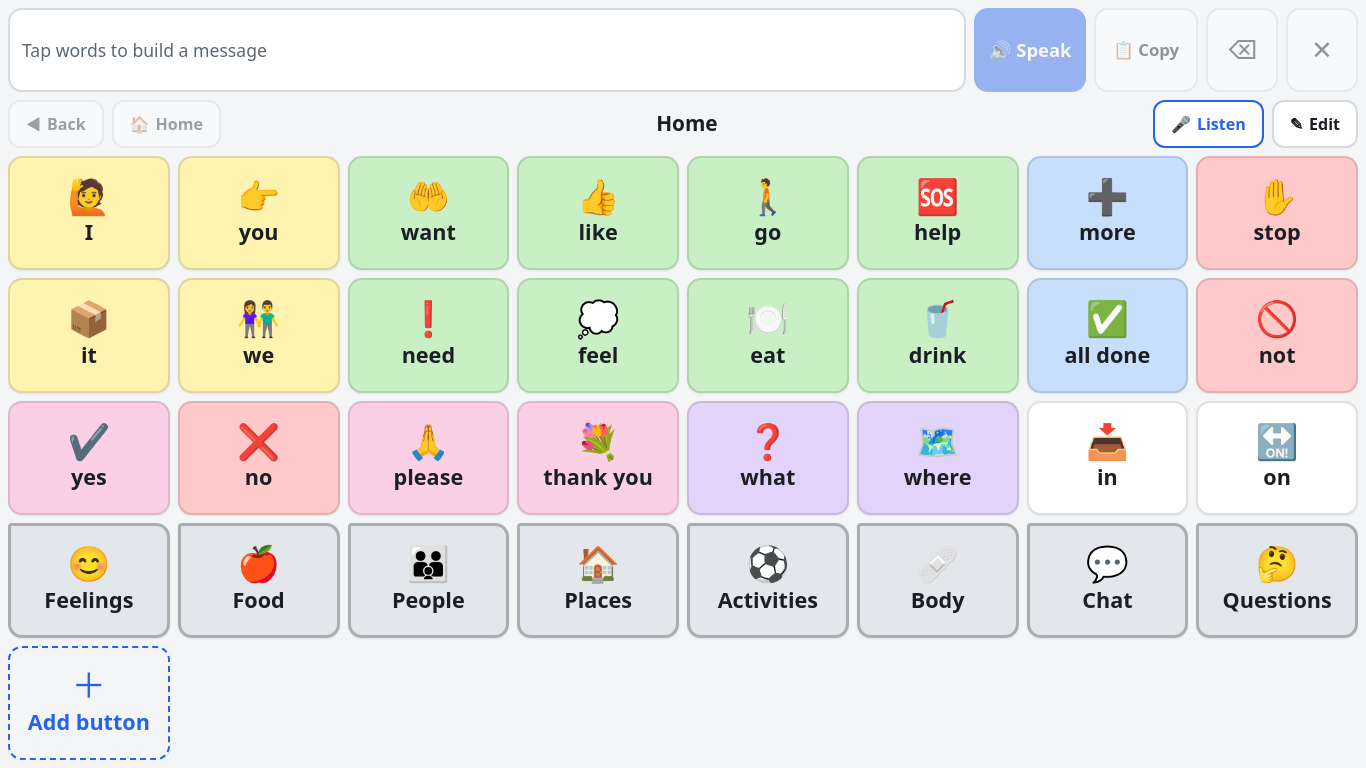
Scenario: voice matching › opens a folder when the matched button is a folder
Click the button "🎤 Listen" at (1208, 124), box [1153,100,1264,148]
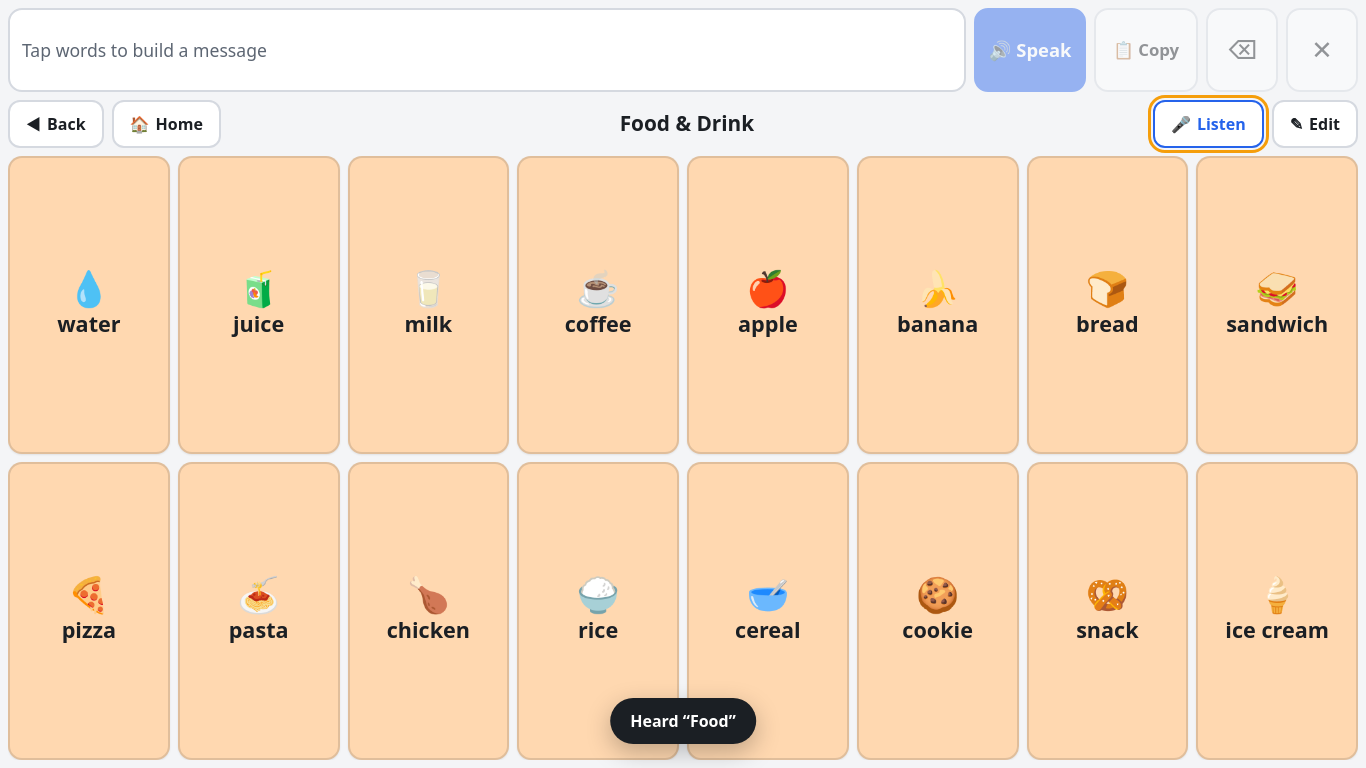
Now the heading "Food & Drink" is shown, box [620,109,754,137]
